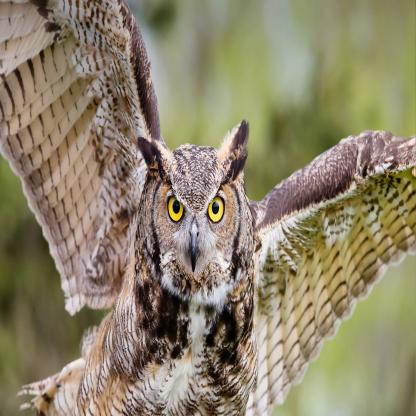owl: (29, 0, 416, 416)
